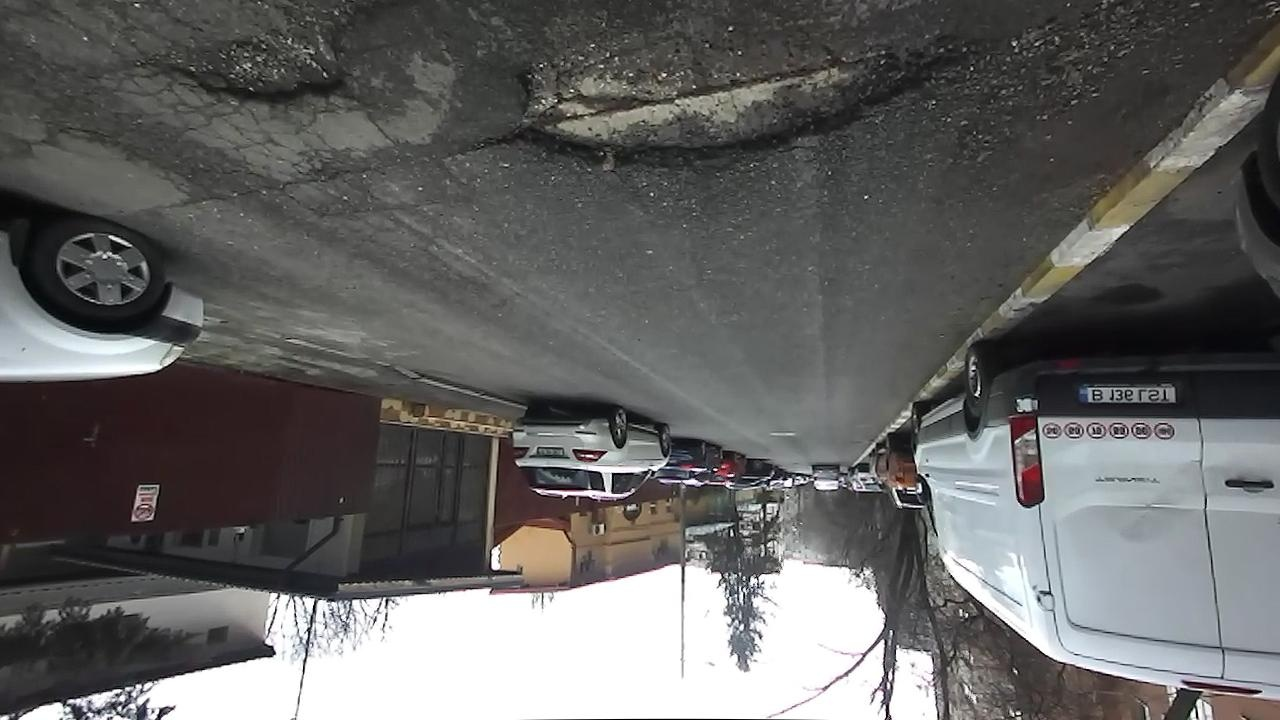pothole: (466, 7, 999, 183), (147, 11, 374, 107)
